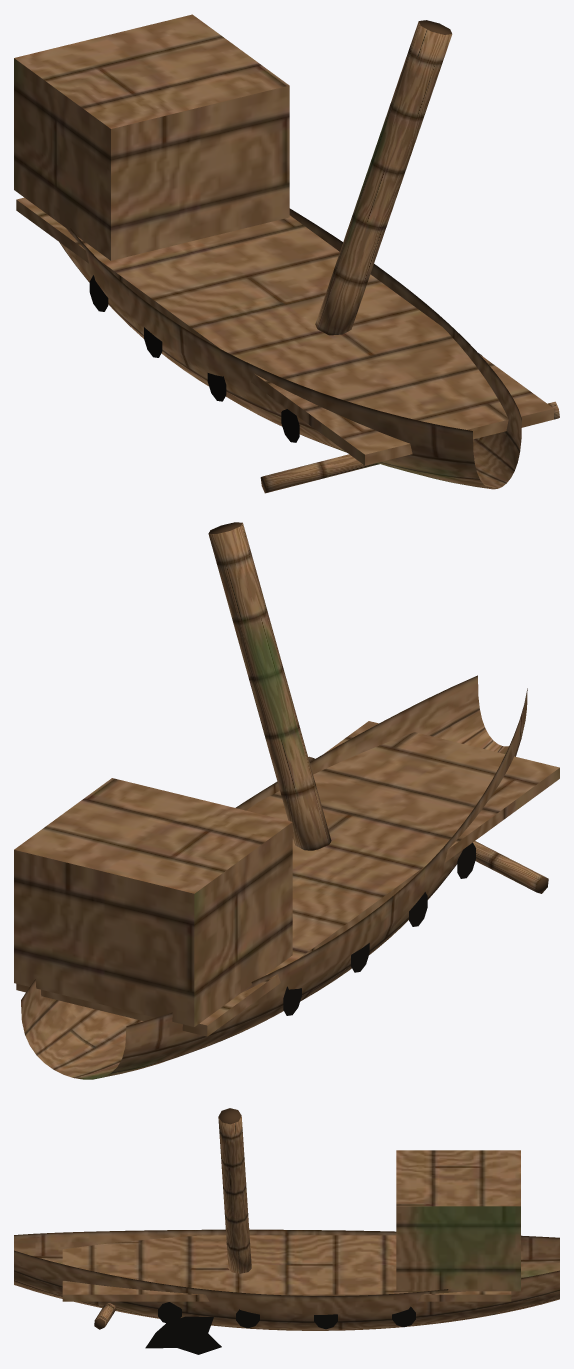
The model's file is prop_ship.glb.
The picture shows the model from 3 angles, top to bottom: view 1: azimuth 30°, elevation 25°; view 2: azimuth 150°, elevation 25°; view 3: azimuth 270°, elevation 25°; orthographic projection. The views are drawn at different scales.
Visible parts, largest first — view 1: wood, dark; view 2: wood, dark; view 3: wood, dark.
Boxes of the visible parts, left/top/right/bottom form: wood: left=14, top=14, right=559, bottom=493; dark: left=89, top=275, right=482, bottom=442; wood: left=14, top=522, right=559, bottom=1079; dark: left=283, top=842, right=475, bottom=1015; wood: left=14, top=1108, right=559, bottom=1330; dark: left=145, top=1302, right=415, bottom=1354.
Size of the model in its own units: 5.07 by 6.79 by 14.
Materials: 2 (1 with a texture image).
